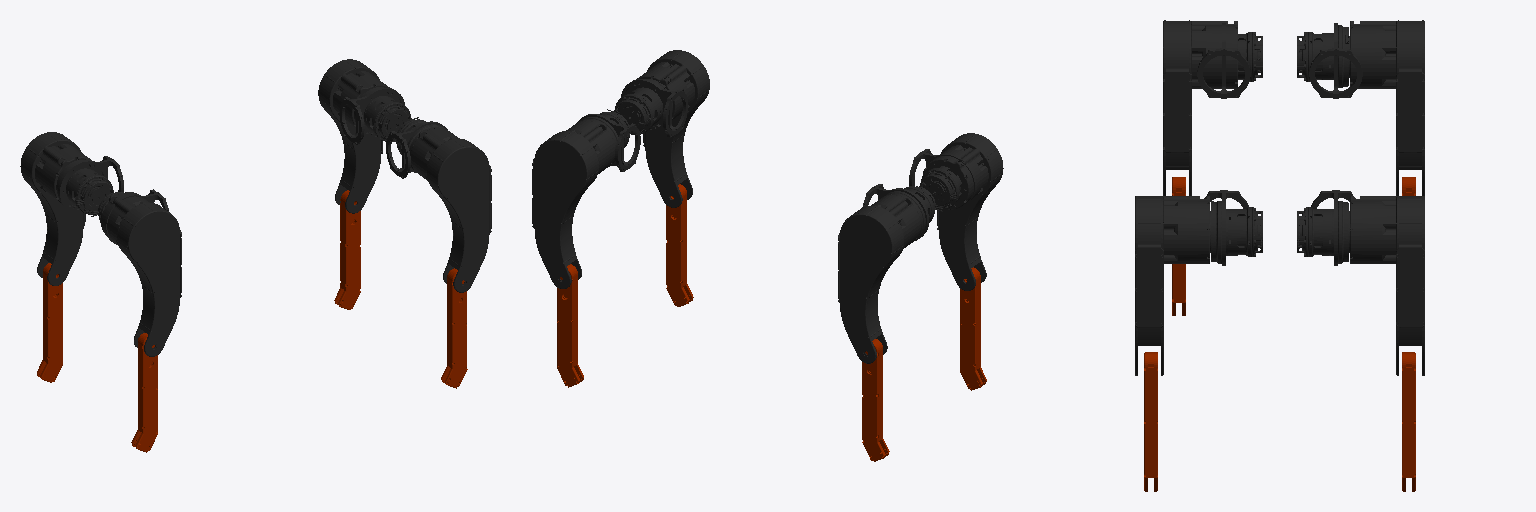
The robot description file, URDF, robot "tekirV3":
<?xml version="1.0" encoding="utf-8"?>
<!-- All knees looks in the same direction -->
<robot name="tekirV3">

  <material name="black">
    <color rgba="0.2 0.2 0.2 1"/>
  </material>
  <material name="auburn" >
    <color rgba="0.6039215686274509 0.18823529411764706 0.00392156862745098 1" />
  </material>
  <material name="olivedrab" >
    <color rgba="0.43529411764705883 0.4627450980392157 0.19607843137254902 1" />
  </material>


  <!--************ LINKS ************-->
  
  <link name="torso">
	  <inertial>
     <origin xyz="0.00145 0.003271 0.01792" rpy="0 0 0"/>  <!-- 0.00145 0.003271 0.01792 -->
     <mass value="20.516"/>
     <inertia ixx="0.41"  ixy="0.003"  ixz="-0.012" iyy="0.908" iyz="0.007" izz="1.192" />
    </inertial>
    <visual>
     <origin xyz="0 0 0" rpy="0 0 0" />
     <geometry>
      <mesh filename="../mesh/torso_rs.stl" scale="0.001 0.001 0.001"/>
     </geometry>
     <material name="black"></material>
    </visual>
    <collision>
     <origin xyz="0 0 0" rpy="0 0 0"/>
     <geometry>
       <box size="0.576 0.358 0.202"/>
     </geometry>
    </collision> 
  </link>

  <!-- Leg LF -->
  <link name="HIP_FE_Motor_lf">
	  <inertial>
     <origin xyz="0.075283 -0.015862 -0.000015" rpy="0 0 0"/>
     <mass value="1.681"/>
     <inertia ixx="0.003"  ixy="9.851e-5"  ixz="-1.213e-6" iyy="0.003" iyz="-1.327e-6" izz="0.003" />
    </inertial>
	  <visual>
     <origin xyz="0.079 0 0" rpy="0 0 1.57079632679" />
     <geometry>
       <mesh filename="../mesh/actuator_hip_fe.stl" scale="0.001 0.001 0.001"/>
     </geometry>
     <material name="black"></material>
    </visual>
	  <collision>
     <origin xyz="0.079 -0.0264 0" rpy="1.57079632679 0 0"/>
     <geometry>
       <cylinder radius="0.0625" length="0.1052"/>
     </geometry>
    </collision>
  </link>

  <link name="thigh_lf">
	  <inertial>
     <origin xyz="-0.003917 0.076506 -0.013793" rpy="0 0 0"/>
     <mass value="2.005"/>
     <inertia ixx="0.008"  ixy="-1.818e-4"  ixz="5.307e-4" iyy="0.007" iyz="0.001" izz="0.004" />
    </inertial>
	  <visual>
     <origin xyz="0 0 0" rpy="0 0 0" />
     <geometry>
       <mesh filename="../mesh/thigh_L.stl" scale="0.001 0.001 0.001"/>
     </geometry>
     <material name="black"></material>
    </visual>
	  <collision>
     <origin xyz="0 0.1136015 -0.135" rpy="0 0 0"/>
     <geometry>
       <box size="0.04 0.053203 0.27"/>
     </geometry>
    </collision>
  </link>

  <link name="shank_lf">
	  <inertial>
     <origin xyz="-0.015346 -0.000102 -0.186842" rpy="0 0 0"/>
     <mass value="0.21"/>
     <inertia ixx="0.002"  ixy="-7.048e-7"  ixz="-2.682e-4" iyy="0.002" iyz="-1.088e-5" izz="1.086e-4" />
    </inertial>
	  <visual>
     <origin xyz="0 0 0" rpy="0 0 1.57079632679" />
     <geometry>
       <mesh filename="../mesh/shank.stl" scale="0.001 0.001 0.001"/>
     </geometry>
     <material name="auburn"></material>
    </visual>
	  <collision>
     <origin xyz="0 0 -0.112141" rpy="0 0 0"/>
     <geometry>
       <box size="0.04 0.026 0.224282"/> 
     </geometry>
    </collision>
    <visual>
     <origin xyz="-0.0219665 0 -0.262329" rpy="0 0.52359877559 0" />
     <geometry>
       <mesh filename="../mesh/foot.stl" scale="0.001 0.001 0.001"/>
     </geometry>
     <material name="black"></material>
    </visual>
    <collision>
     <origin xyz="-0.0400655 0 -0.293677" rpy="0 0 0"/>
     <geometry>
       <sphere radius="0.027"/>
     </geometry>
    </collision>
  </link>

  <!-- Leg RF -->
  <link name="HIP_FE_Motor_rf">
	  <inertial>
     <origin xyz="0.075283 0.015862 -0.000015" rpy="0 0 0"/>
     <mass value="1.681"/>
     <inertia ixx="0.003"  ixy="9.851e-5"  ixz="-1.213e-6" iyy="0.003" iyz="-1.327e-6" izz="0.003" />
    </inertial>
	  <visual>
     <origin xyz="0.079 0 0" rpy="3.14159265 0 -1.57079632679" />
     <geometry>
       <mesh filename="../mesh/actuator_hip_fe.stl" scale="0.001 0.001 0.001"/>
     </geometry>
     <material name="black"></material>
    </visual>
	  <collision>
     <origin xyz="0.079 0.0264 0" rpy="1.57079632679 0 0"/>
     <geometry>
       <cylinder radius="0.0625" length="0.1052"/>
     </geometry>
    </collision>
  </link>

  <link name="thigh_rf">
	  <inertial>
     <origin xyz="-0.003917 -0.076506 -0.013793" rpy="0 0 0"/>
     <mass value="2.005"/>
     <inertia ixx="0.008"  ixy="-1.818e-4"  ixz="5.307e-4" iyy="0.007" iyz="0.001" izz="0.004" />
    </inertial>
	  <visual>
     <origin xyz="0 0 0" rpy="0 0 3.14159265359" />
     <geometry>
       <mesh filename="../mesh/thigh_R.stl" scale="0.001 0.001 0.001"/>
     </geometry>
     <material name="black"></material>
    </visual>
	  <collision>
     <origin xyz="0 0.1136015 -0.135" rpy="0 0 0"/>
     <geometry>
       <box size="0.04 0.053203 0.27"/>
     </geometry>
    </collision>
  </link>

  <link name="shank_rf">
	  <inertial>
     <origin xyz="-0.015346 0.000102 -0.186842" rpy="0 0 0"/>
     <mass value="0.21"/>
     <inertia ixx="0.002"  ixy="-7.048e-7"  ixz="-2.682e-4" iyy="0.002" iyz="-1.088e-5" izz="1.086e-4" />
    </inertial>
	  <visual>
     <origin xyz="0 0 0" rpy="0 0 -1.57079632679" />
     <geometry>
       <mesh filename="../mesh/shank.stl" scale="0.001 0.001 0.001"/>
     </geometry>
     <material name="auburn"></material>
    </visual>
	  <collision>
     <origin xyz="0 0 -0.112141" rpy="0 0 0"/>
     <geometry>
       <box size="0.04 0.026 0.224282"/>
     </geometry>
    </collision>
    <visual>
     <origin xyz="0.0219665 0 -0.262329" rpy="0 -0.52359877559 0" />
     <geometry>
       <mesh filename="../mesh/foot.stl" scale="0.001 0.001 0.001"/>
     </geometry>
     <material name="black"></material>
    </visual>
    <collision>
     <origin xyz="0.0400655 0 -0.293677" rpy="0 0 0"/>
     <geometry>
       <sphere radius="0.027"/>
     </geometry>
    </collision>
  </link>

  <!-- Leg LB -->
  <link name="HIP_FE_Motor_lb">
	  <inertial>
     <origin xyz="-0.075283 -0.015862 -0.000015" rpy="0 0 0"/>
     <mass value="1.681"/>
     <inertia ixx="0.003"  ixy="9.851e-5"  ixz="-1.213e-6" iyy="0.003" iyz="-1.327e-6" izz="0.003" />
    </inertial>
	  <visual>
     <origin xyz="0.079 0 0" rpy="0 3.14159265 1.57079632679" />
     <geometry>
       <mesh filename="../mesh/actuator_hip_fe.stl" scale="0.001 0.001 0.001"/>
     </geometry>
     <material name="black"></material>
    </visual>
	  <collision>
     <origin xyz="0.079 0.0264 0" rpy="1.57079632679 0 0"/>
     <geometry>
       <cylinder radius="0.0625" length="0.1052"/>
     </geometry>
    </collision>
  </link>

  <link name="thigh_lb">
	  <inertial>
     <origin xyz="0.003917 0.076506 -0.013793" rpy="0 0 0"/>
     <mass value="2.005"/>
     <inertia ixx="0.008"  ixy="-1.818e-4"  ixz="5.307e-4" iyy="0.007" iyz="0.001" izz="0.004" />
    </inertial>
	  <visual>
     <origin xyz="0 0 0" rpy="0 0 0" />
     <geometry>
       <mesh filename="../mesh/thigh_L.stl" scale="0.001 0.001 0.001"/>
     </geometry>
     <material name="black"></material>
    </visual>
	  <collision>
     <origin xyz="0 0.1136015 -0.135" rpy="0 0 0"/>
     <geometry>
       <box size="0.04 0.053203 0.27"/>
     </geometry>
    </collision>
  </link>

  <link name="shank_lb">
	  <inertial>
     <origin xyz="-0.015346 -0.000102 -0.186842" rpy="0 0 0"/>
     <mass value="0.21"/>
     <inertia ixx="0.002"  ixy="-7.048e-7"  ixz="-2.682e-4" iyy="0.002" iyz="-1.088e-5" izz="1.086e-4" />
    </inertial>
	  <visual>
     <origin xyz="0 0 0" rpy="0 0 1.57079632679" />
     <geometry>
       <mesh filename="../mesh/shank.stl" scale="0.001 0.001 0.001"/>
     </geometry>
     <material name="auburn"></material>
    </visual>
	  <collision>
     <origin xyz="0 0 -0.112141" rpy="0 0 0"/>
     <geometry>
       <box size="0.04 0.026 0.224282"/>
     </geometry>
    </collision>
    <visual>
     <origin xyz="-0.0219665 0 -0.262329" rpy="0 0.52359877559 0" />
     <geometry>
       <mesh filename="../mesh/foot.stl" scale="0.001 0.001 0.001"/>
     </geometry>
     <material name="black"></material>
    </visual>
    <collision>
     <origin xyz="-0.0400655 0 -0.293677" rpy="0 0 0"/>
     <geometry>
       <sphere radius="0.027"/>
     </geometry>
    </collision>
  </link>

  <!-- Leg RB -->
  <link name="HIP_FE_Motor_rb">
	  <inertial>
     <origin xyz="-0.075283 0.015862 -0.000015" rpy="0 0 0"/>
     <mass value="1.681"/>
     <inertia ixx="0.003"  ixy="9.851e-5"  ixz="-1.213e-6" iyy="0.003" iyz="-1.327e-6" izz="0.003" />
    </inertial>
	  <visual>
     <origin xyz="0.079 0 0" rpy="0 0 1.57079632679" />
     <geometry>
       <mesh filename="../mesh/actuator_hip_fe.stl" scale="0.001 0.001 0.001"/>
     </geometry>
     <material name="black"></material>
    </visual>
	  <collision>
     <origin xyz="0.079 -0.0264 0" rpy="1.57079632679 0 0"/>
     <geometry>
       <cylinder radius="0.0625" length="0.1052"/>
     </geometry>
    </collision>
  </link>

  <link name="thigh_rb">
	  <inertial>
     <origin xyz="0.003917 -0.076506 -0.013793" rpy="0 0 0"/>
     <mass value="2.005"/>
     <inertia ixx="0.008"  ixy="-1.818e-4"  ixz="5.307e-4" iyy="0.007" iyz="0.001" izz="0.004" />
    </inertial>
	  <visual>
     <origin xyz="0 0 0" rpy="0 0 3.14159265359" />
     <geometry>
       <mesh filename="../mesh/thigh_R.stl" scale="0.001 0.001 0.001"/>
     </geometry>
     <material name="black"></material>
    </visual>
	  <collision>
     <origin xyz="0 0.1136015 -0.135" rpy="0 0 0"/>
     <geometry>
       <box size="0.04 0.053203 0.27"/>
     </geometry>
    </collision>
  </link>

  <link name="shank_rb">
	  <inertial>
     <origin xyz="-0.015346 0.000102 -0.186842" rpy="0 0 0"/>
     <mass value="0.21"/>
     <inertia ixx="0.002"  ixy="-7.048e-7"  ixz="-2.682e-4" iyy="0.002" iyz="-1.088e-5" izz="1.086e-4" />
    </inertial>
	  <visual>
     <origin xyz="0 0 0" rpy="0 0 -1.57079632679" />
     <geometry>
       <mesh filename="../mesh/shank.stl" scale="0.001 0.001 0.001"/>
     </geometry>
     <material name="auburn"></material>
    </visual>
	  <collision>
     <origin xyz="0 0 -0.112141" rpy="0 0 0"/>
     <geometry>
       <box size="0.04 0.026 0.224282"/>
     </geometry>
    </collision>
    <visual>
     <origin xyz="0.0219665 0 -0.262329" rpy="0 -0.52359877559 0" />
     <geometry>
       <mesh filename="../mesh/foot.stl" scale="0.001 0.001 0.001"/>
     </geometry>
     <material name="black"></material>
    </visual>
    <collision>
     <origin xyz="0.0400655 0 -0.293677" rpy="0 0 0"/>
     <geometry>
       <sphere radius="0.027"/>
     </geometry>
    </collision>
  </link>

  
  <!--************ JOINTS ************-->

  <!-- Leg LF -->
  <joint name="Joint_HIP_AA_lf" type="revolute">
    <parent link="torso"/>
    <child link="HIP_FE_Motor_lf"/>
    <axis xyz="1 0 0"/>
    <origin xyz="0.3102 0.105 0.002" rpy="0 0 0"/>
    <limit effort="50" lower="0" upper="0" velocity="8.29031393750349"/>
    <dynamics damping="0.0" friction="0.0"/>
  </joint>

  <joint name="Joint_HIP_FE_lf" type="revolute">
    <parent link="HIP_FE_Motor_lf"/>
    <child link="thigh_lf"/>
    <axis xyz="0 1 0"/>
    <origin xyz="0.079 0.0262 0" rpy="0 0 0"/>
    <limit effort="50" lower="0" upper="0" velocity="8.29031393750349"/>
    <dynamics damping="0.0" friction="0.0"/>
  </joint>

  <joint name="Joint_KNEE_FE_lf" type="revolute">
    <parent link="thigh_lf"/>
    <child link="shank_lf"/>
    <axis xyz="0 1 0"/>
    <origin xyz="0 0.1102 -0.27" rpy="0 0 0"/>
    <limit effort="50" lower="0" upper="0" velocity="8.29031393750349"/>
    <dynamics damping="0.0" friction="0.0"/>
  </joint>

  <!-- Leg RF -->
  <joint name="Joint_HIP_AA_rf" type="revolute">
    <parent link="torso"/>
    <child link="HIP_FE_Motor_rf"/>
    <axis xyz="1 0 0"/>
    <origin xyz="0.3102 -0.105 0.002" rpy="0 0 0"/>
    <limit effort="50" lower="0" upper="0" velocity="8.29031393750349"/>
    <dynamics damping="0.0" friction="0.0"/>
  </joint>

  <joint name="Joint_HIP_FE_rf" type="revolute">
    <parent link="HIP_FE_Motor_rf"/>
    <child link="thigh_rf"/>
    <axis xyz="0 1 0"/>
    <origin xyz="0.079 -0.0262 0" rpy="0 0 3.14159265359"/>
    <limit effort="50" lower="0" upper="0" velocity="8.29031393750349"/>
    <dynamics damping="0.0" friction="0.0"/>
  </joint>

  <joint name="Joint_KNEE_FE_rf" type="revolute">
    <parent link="thigh_rf"/>
    <child link="shank_rf"/>
    <axis xyz="0 1 0"/>
    <origin xyz="0 0.1102 -0.27" rpy="0 0 0"/>
    <limit effort="50" lower="0" upper="0" velocity="8.29031393750349"/>
    <dynamics damping="0.0" friction="0.0"/>
  </joint>
  
  <!-- Leg LB -->
  <joint name="Joint_HIP_AA_lb" type="revolute">
    <parent link="torso"/>
    <child link="HIP_FE_Motor_lb"/>
    <axis xyz="1 0 0"/>
    <origin xyz="-0.3102 0.105 0.002" rpy="0 0 3.14159265359"/>
    <limit effort="50" lower="0" upper="0" velocity="8.29031393750349"/>
    <dynamics damping="0.0" friction="0.0"/>
  </joint>

  <joint name="Joint_HIP_FE_lb" type="revolute">
    <parent link="HIP_FE_Motor_lb"/>
    <child link="thigh_lb"/>
    <axis xyz="0 1 0"/>
    <origin xyz="0.079 -0.0262 0" rpy="0 0 3.14159265359"/>
    <limit effort="50" lower="0" upper="0" velocity="8.29031393750349"/>
    <dynamics damping="0.0" friction="0.0"/>
  </joint>

  <joint name="Joint_KNEE_FE_lb" type="revolute">
    <parent link="thigh_lb"/>
    <child link="shank_lb"/>
    <axis xyz="0 1 0"/>
    <origin xyz="0 0.1102 -0.27" rpy="0 0 0"/>
    <limit effort="50" lower="0" upper="0" velocity="8.29031393750349"/>
    <dynamics damping="0.0" friction="0.0"/>
  </joint>
  
  <!-- Leg RB -->
  <joint name="Joint_HIP_AA_rb" type="revolute">
    <parent link="torso"/>
    <child link="HIP_FE_Motor_rb"/>
    <axis xyz="1 0 0"/>
    <origin xyz="-0.3102 -0.105 0.002" rpy="0 0 3.14159265359"/>
    <limit effort="50" lower="0" upper="0" velocity="8.29031393750349"/>
    <dynamics damping="0.0" friction="0.0"/>
  </joint>

  <joint name="Joint_HIP_FE_rb" type="revolute">
    <parent link="HIP_FE_Motor_rb"/>
    <child link="thigh_rb"/>
    <axis xyz="0 1 0"/>
    <origin xyz="0.079 -0.0262 0" rpy="0 0 0"/>
    <limit effort="50" lower="0" upper="0" velocity="8.29031393750349"/>
    <dynamics damping="0.0" friction="0.0"/>
  </joint>
  
  <joint name="Joint_KNEE_FE_rb" type="revolute">
    <parent link="thigh_rb"/>
    <child link="shank_rb"/>
    <axis xyz="0 1 0"/>
    <origin xyz="0 0.1102 -0.27" rpy="0 0 0"/>
    <limit effort="50" lower="0" upper="0" velocity="8.29031393750349"/>
    <dynamics damping="0.0" friction="0.0"/>
  </joint>

</robot>

--- Render facts (derived) ---
The picture shows the robot from 3 angles, left to right: view 1: azimuth 30°, elevation 25°; view 2: azimuth 150°, elevation 25°; view 3: azimuth 270°, elevation 25°; orthographic projection.
Robot: tekirV3 — 13 links, 12 joints (12 revolute); root link torso; default pose: all joints at 0.
Visible links, largest first — view 1: thigh_rf, thigh_rb, thigh_lb, thigh_lf, HIP_FE_Motor_lf, HIP_FE_Motor_lb, shank_lf, shank_rf, shank_rb, shank_lb, HIP_FE_Motor_rf, HIP_FE_Motor_rb; view 2: thigh_lf, thigh_lb, thigh_rb, thigh_rf, HIP_FE_Motor_rf, shank_lf, shank_lb, shank_rb, shank_rf, HIP_FE_Motor_rb, HIP_FE_Motor_lf, HIP_FE_Motor_lb; view 3: thigh_lf, thigh_rf, thigh_lb, thigh_rb, HIP_FE_Motor_lb, HIP_FE_Motor_rf, HIP_FE_Motor_lf, HIP_FE_Motor_rb, shank_lf, shank_rf, shank_rb.
Link boxes in pixels (box(x1,y1,x2,y2)): thigh_rf: box(410, 128, 491, 292); thigh_rb: box(101, 192, 181, 356); thigh_lb: box(20, 132, 91, 285); thigh_lf: box(318, 59, 389, 213); HIP_FE_Motor_lf: box(339, 87, 418, 144); HIP_FE_Motor_lb: box(56, 156, 123, 214); shank_lf: box(334, 190, 360, 309); shank_rf: box(441, 268, 467, 388); shank_rb: box(131, 333, 157, 452); shank_lb: box(37, 263, 62, 382); HIP_FE_Motor_rf: box(386, 119, 447, 178); HIP_FE_Motor_rb: box(91, 189, 169, 245); thigh_lf: box(532, 120, 615, 288); thigh_lb: box(838, 195, 920, 363); thigh_rb: box(922, 133, 1003, 290); thigh_rf: box(637, 50, 709, 207); HIP_FE_Motor_rf: box(607, 79, 687, 137); shank_lf: box(557, 264, 583, 387); shank_lb: box(862, 339, 889, 461); shank_rb: box(960, 267, 986, 390); shank_rf: box(666, 184, 693, 306); HIP_FE_Motor_rb: box(909, 149, 976, 208); HIP_FE_Motor_lf: box(577, 112, 640, 171); HIP_FE_Motor_lb: box(862, 184, 942, 240); thigh_lf: box(1350, 196, 1424, 375); thigh_rf: box(1135, 196, 1209, 375); thigh_lb: box(1350, 20, 1424, 195); thigh_rb: box(1163, 20, 1237, 195); HIP_FE_Motor_lb: box(1297, 23, 1362, 98); HIP_FE_Motor_rf: box(1204, 190, 1262, 265); HIP_FE_Motor_lf: box(1297, 190, 1355, 265); HIP_FE_Motor_rb: box(1197, 23, 1262, 98); shank_lf: box(1402, 352, 1415, 491); shank_rf: box(1144, 352, 1157, 491); shank_rb: box(1172, 177, 1185, 315).
Size in the robot's own frame: 0.9194 by 0.5428 by 0.6078 metres.
12 mesh visuals loaded from 6 distinct referenced files (4 binary STL); not drawn: 5 (reference not matched to a file when rendering).